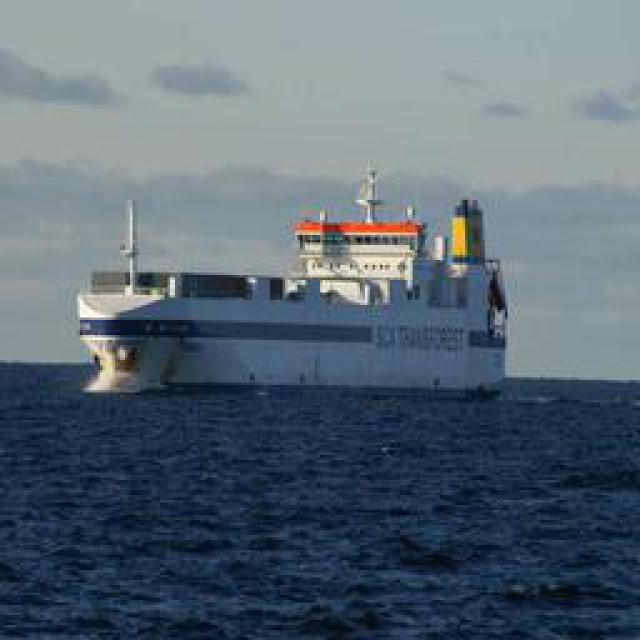Ship: (77, 158, 515, 403)
